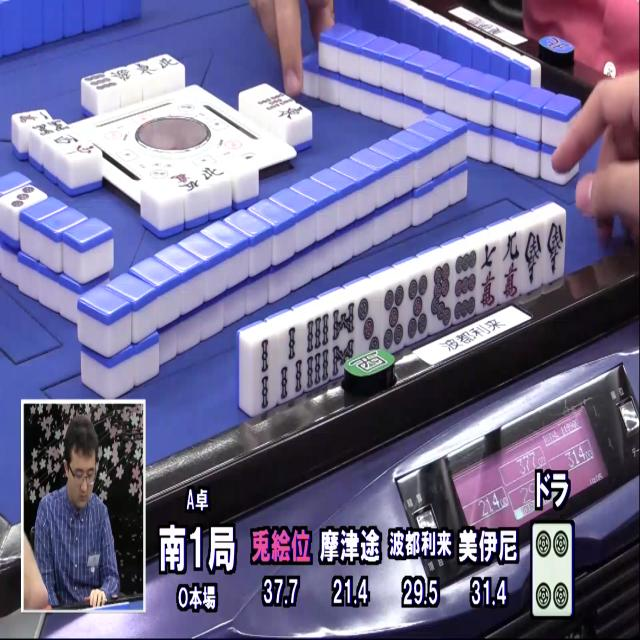m7: (477, 241, 503, 312)
m9: (498, 230, 524, 299)
s2: (255, 334, 279, 414)
s3: (276, 325, 305, 402)
s6: (303, 313, 332, 391)
s8: (332, 300, 359, 373)
south: (522, 226, 544, 293), (545, 217, 567, 282)
t3: (354, 294, 383, 356), (7, 183, 38, 214)
t4: (528, 521, 577, 616)
t5: (380, 282, 407, 354), (405, 273, 432, 343)
t7: (427, 259, 455, 331)
t9: (450, 248, 479, 322)
